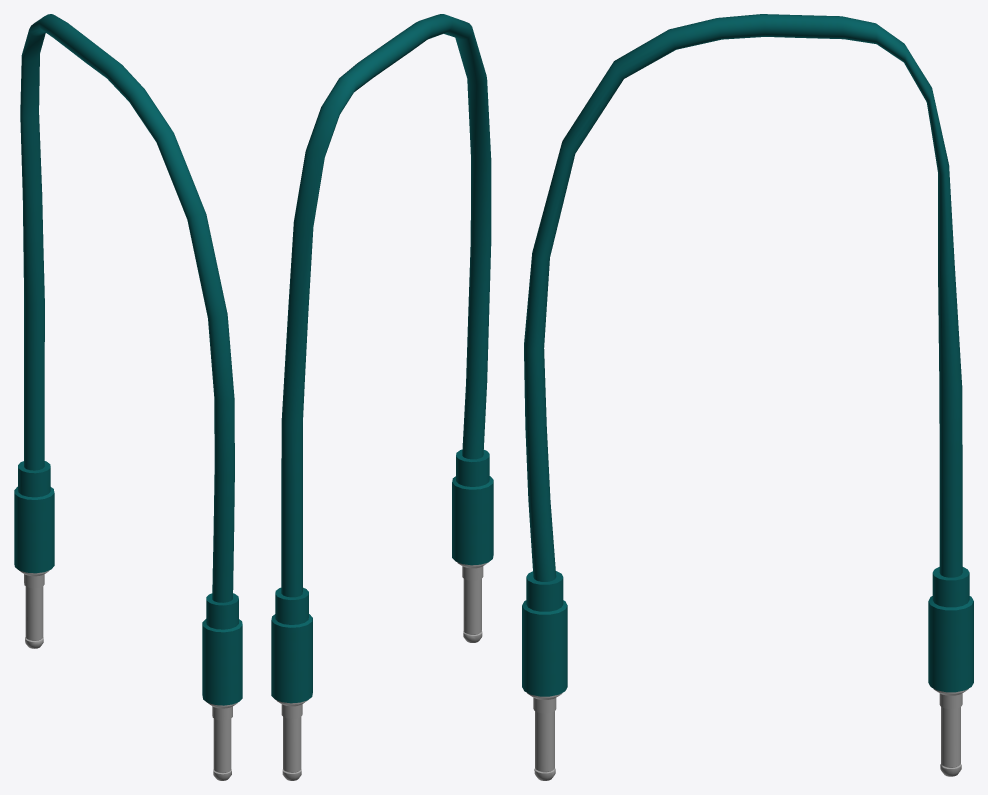
The model's file is Blue_Wire.gltf.
3 renders of one model, left to right at view 1: azimuth 30°, elevation 25°; view 2: azimuth 150°, elevation 25°; view 3: azimuth 270°, elevation 25°, orthographic. The views are drawn at different scales.
Visible parts, largest first — view 1: Wire_06; view 2: Wire_06; view 3: Wire_06.
Boxes of the visible parts, x1=… form: Wire_06: x1=14, y1=14, x2=242, y2=780; Wire_06: x1=271, y1=14, x2=493, y2=780; Wire_06: x1=522, y1=14, x2=973, y2=780.
Size of the model in its own units: 0.0644 by 0.7193 by 0.394.
Materials: 2 (1 with a texture image).
